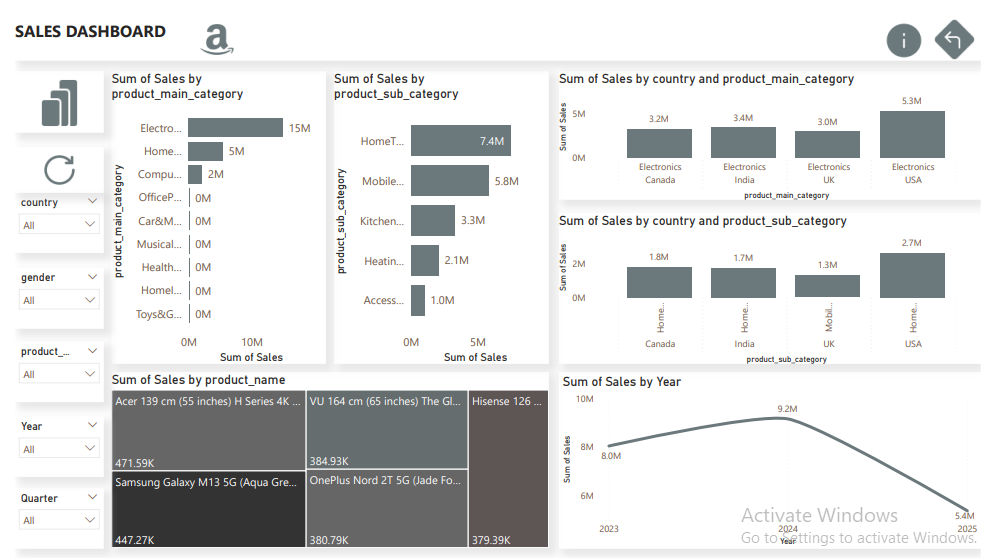

What the dashboard file says about the page in this screenshot:
{"tool":"powerbi","page":{"name":"Dashboard (detailed product and time)","canvas":[1280,720],"ordinal":1},"visuals":[{"type":"clusteredBarChart","fields":{"Category":["dim_product.product_main_category"],"Y":["Sum(fact_sales.Sales)"]},"box":[128.2,73.4,283.7,387.4],"z":0},{"type":"clusteredBarChart","fields":{"Category":["dim_product.product_sub_category"],"Y":["Sum(fact_sales.Sales)"]},"box":[423.4,73.4,283.7,387.4],"z":1000},{"type":"clusteredColumnChart","fields":{"Category":["dim_location.country","dim_product.product_sub_category"],"Y":["Sum(fact_sales.Sales)"]},"box":[721.4,260.6,558.7,200.2],"z":2000},{"type":"clusteredColumnChart","fields":{"Category":["dim_location.country","dim_product.product_main_category"],"Y":["Sum(fact_sales.Sales)"]},"box":[721.4,73.4,558.7,169.9],"z":3000},{"type":"treemap","fields":{"Values":["Sum(fact_sales.Sales)"],"Group":["dim_product.product_name"]},"box":[128.4,472.4,579,232.9],"z":4000},{"type":"lineChart","fields":{"Category":["fact_sales.order_date.Variation.Date Hierarchy.Year","fact_sales.order_date.Variation.Date Hierarchy.Quarter","fact_sales.order_date.Variation.Date Hierarchy.Month","fact_sales.order_date.Variation.Date Hierarchy.Day"],"Y":["Sum(fact_sales.Sales)"]},"box":[721.4,472.3,558.7,233.3],"z":5000},{"type":"slicer","fields":{"Values":["fact_sales.order_date.Variation.Date Hierarchy.Quarter"]},"box":[0,625.8,116.8,80.1],"z":6000},{"type":"slicer","fields":{"Values":["fact_sales.order_date.Variation.Date Hierarchy.Year"]},"box":[0,530.7,116.8,80.1],"z":7000},{"type":"slicer","fields":{"Values":["dim_product.product_main_category"]},"box":[0,432.2,116.8,80.1],"z":8000},{"type":"slicer","fields":{"Values":["dim_location.country"]},"box":[0,234,116.8,80.1],"z":9000},{"type":"slicer","fields":{"Values":["dim_customer.gender"]},"box":[0,333.8,116.8,80.1],"z":10000},{"type":"textbox","box":[0,0,1280.2,59],"z":11000},{"type":"image","box":[0,73.4,116.8,80.1],"z":12000},{"type":"image","box":[0,174,116.8,60.1],"z":13000},{"type":"image","box":[214.6,0,105.1,59],"z":14000},{"type":"image","box":[1146,0,63.9,63.9],"z":15000},{"type":"image","box":[1209.9,0,70.1,61.8],"z":17000}]}

Visuals, with their boxes in screenshot pixels (x1, y1, x2, y2), scaled from the page's 1280x720 canvas onto the 989x558 screenshot:
clusteredBarChart - dim_product.product_main_category x Sum(fact_sales.Sales): (99,57,318,357)
clusteredBarChart - dim_product.product_sub_category x Sum(fact_sales.Sales): (327,57,546,357)
clusteredColumnChart - dim_location.country x dim_product.product_sub_category: (557,202,988,357)
clusteredColumnChart - dim_location.country x dim_product.product_main_category: (557,57,988,189)
treemap - Sum(fact_sales.Sales) x dim_product.product_name: (99,366,547,547)
lineChart - fact_sales.order_date.Variation.Date Hierarchy.Year x fact_sales.order_date.Variation.Date Hierarchy.Quarter: (557,366,988,547)
slicer - fact_sales.order_date.Variation.Date Hierarchy.Quarter: (0,485,90,547)
slicer - fact_sales.order_date.Variation.Date Hierarchy.Year: (0,411,90,473)
slicer - dim_product.product_main_category: (0,335,90,397)
slicer - dim_location.country: (0,181,90,243)
slicer - dim_customer.gender: (0,259,90,321)
textbox: (0,0,988,46)
image: (0,57,90,119)
image: (0,135,90,181)
image: (166,0,247,46)
image: (885,0,935,50)
image: (935,0,988,48)
